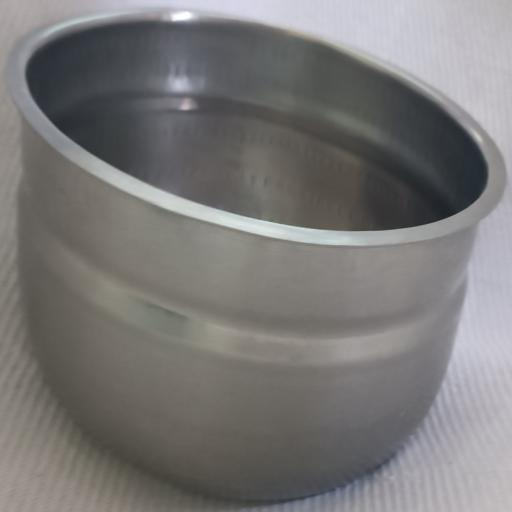vessel: (8, 10, 505, 500)
